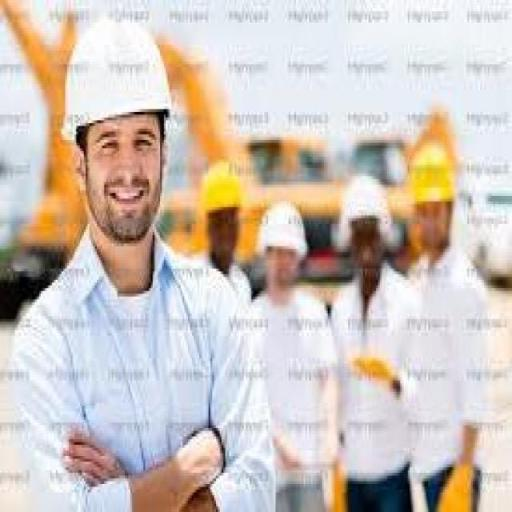helmet: (59, 19, 175, 140), (402, 132, 471, 221), (331, 165, 397, 238), (255, 196, 313, 263), (195, 160, 250, 218)
